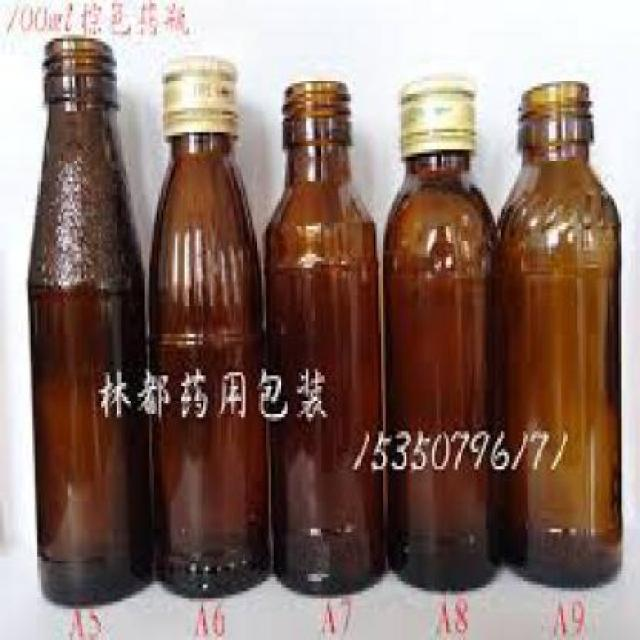kaca: (26, 36, 149, 606), (491, 80, 622, 588), (262, 77, 383, 595), (144, 132, 270, 598), (380, 151, 500, 592)
